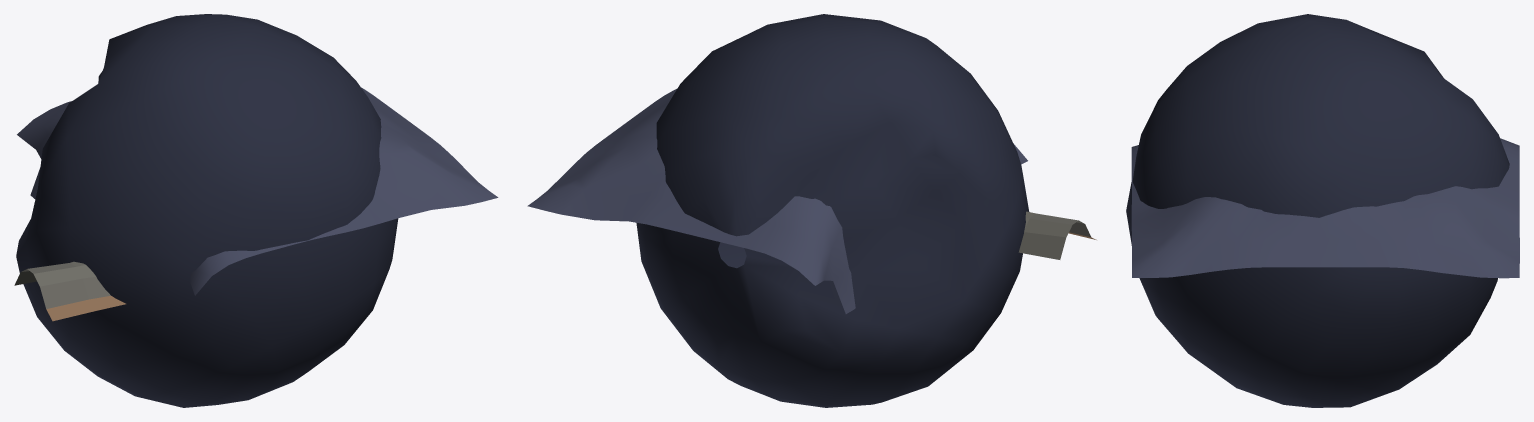
File: arena1NewSkybox.fbx
3 renders of one model, left to right at view 1: azimuth 30°, elevation 25°; view 2: azimuth 150°, elevation 25°; view 3: azimuth 270°, elevation 25°, orthographic.
Parts seen in each view (by area): view 1: pasted__skybox, pasted__cieling; view 2: pasted__skybox, pasted__cieling; view 3: pasted__skybox, pasted__cieling.
Boxes of the visible parts, x1=… form: pasted__skybox: x1=16, y1=14, x2=398, y2=407; pasted__cieling: x1=14, y1=87, x2=498, y2=321; pasted__skybox: x1=636, y1=14, x2=1029, y2=407; pasted__cieling: x1=527, y1=88, x2=1096, y2=313; pasted__skybox: x1=1126, y1=14, x2=1509, y2=407; pasted__cieling: x1=1131, y1=138, x2=1519, y2=278.
Bounding box in the file's own units: 8107 × 6770 × 6783.
